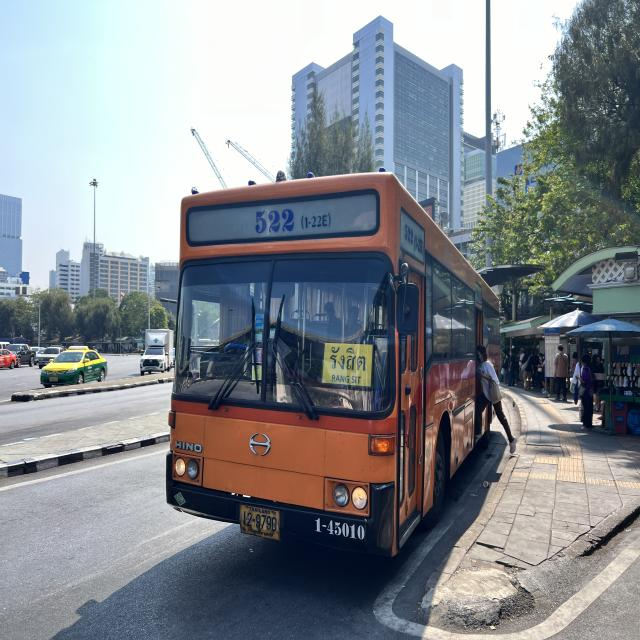BMTA-bus: (165, 173, 500, 561)
Bus-Line-Number: (250, 204, 336, 238)
Destination-Sign-Normal-Expressway: (320, 344, 374, 392)
